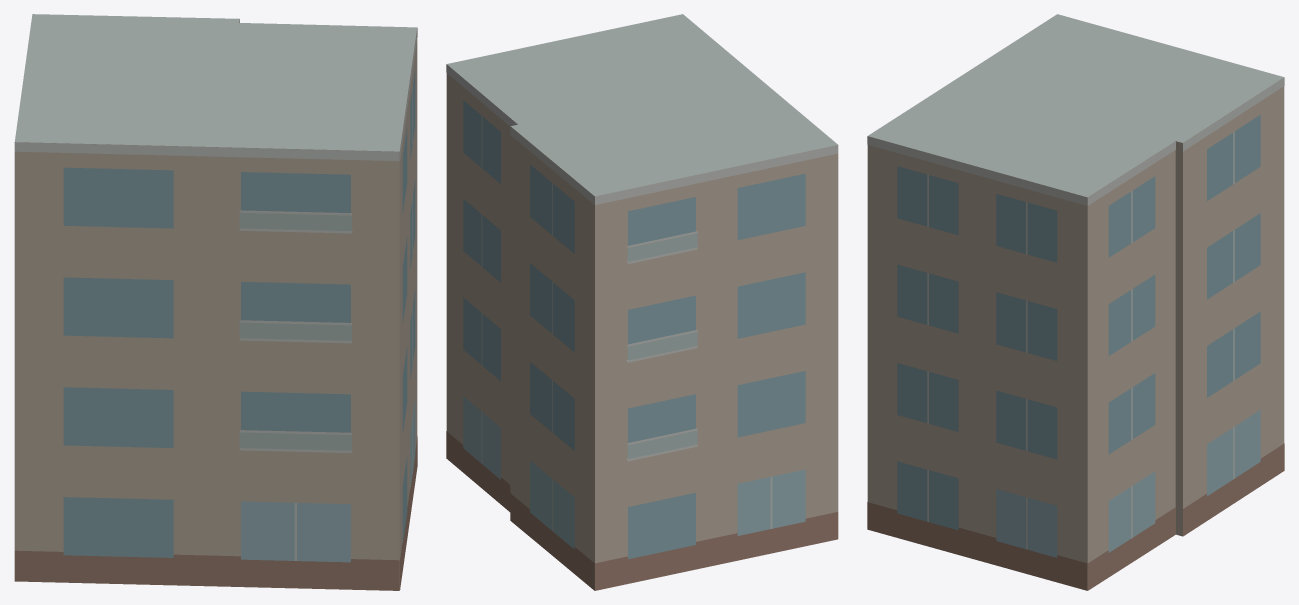
The model's file is survey-upis-32691053.glb.
3 renders of one model, left to right at view 1: azimuth 30°, elevation 25°; view 2: azimuth 150°, elevation 25°; view 3: azimuth 270°, elevation 25°, orthographic. The views are drawn at different scales.
Visible parts, largest first — view 1: survey-upis-32691053.tmp; view 2: survey-upis-32691053.tmp; view 3: survey-upis-32691053.tmp.
Part boxes in pixels (bbox=[...]): survey-upis-32691053.tmp: bbox=[14, 14, 417, 590]; survey-upis-32691053.tmp: bbox=[446, 14, 838, 590]; survey-upis-32691053.tmp: bbox=[867, 14, 1284, 590].
Size of the model in its own units: 11.15 by 11.15 by 10.72.
